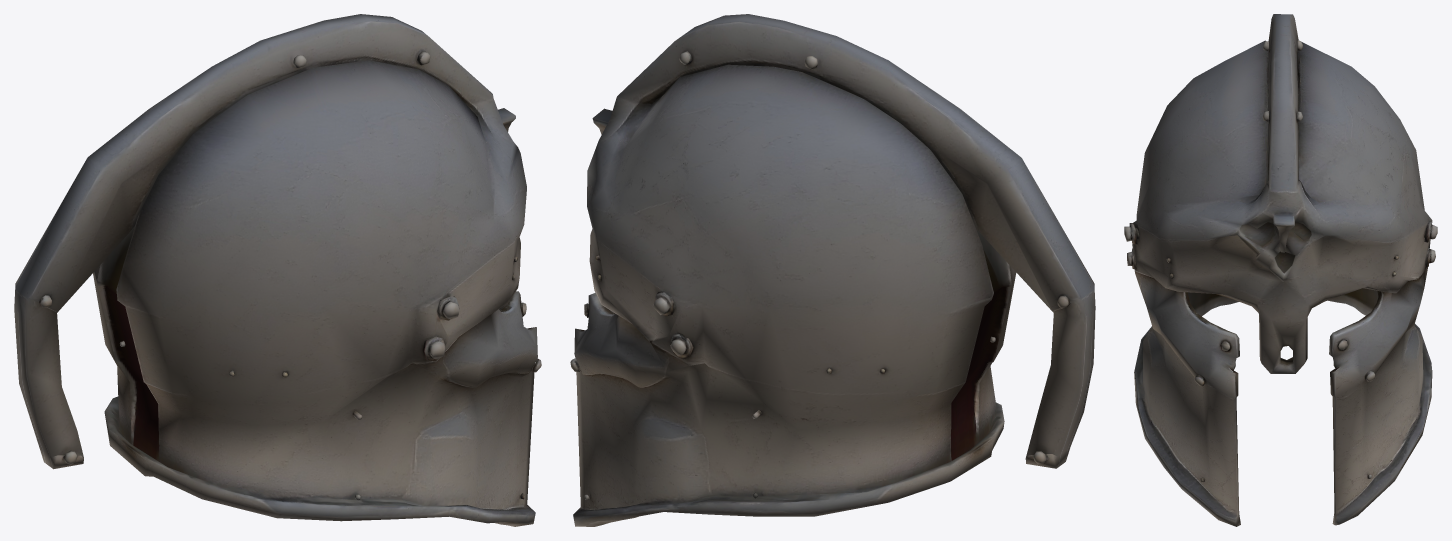
Rendered from yelmo.glb.
3 renders of one model, left to right at view 1: azimuth 30°, elevation 25°; view 2: azimuth 150°, elevation 25°; view 3: azimuth 270°, elevation 25°, orthographic. The views are drawn at different scales.
Parts seen in each view (by area): view 1: tripo_node_14965544-8d3c-4450-88a9-6775f9fea5e2; view 2: tripo_node_14965544-8d3c-4450-88a9-6775f9fea5e2; view 3: tripo_node_14965544-8d3c-4450-88a9-6775f9fea5e2.
Part boxes in pixels (left/top/right/bottom): tripo_node_14965544-8d3c-4450-88a9-6775f9fea5e2: left=14, top=14, right=541, bottom=526; tripo_node_14965544-8d3c-4450-88a9-6775f9fea5e2: left=570, top=14, right=1095, bottom=526; tripo_node_14965544-8d3c-4450-88a9-6775f9fea5e2: left=1124, top=14, right=1437, bottom=526.
Size of the model in its own units: 0.9902 by 0.998 by 0.6816.
Materials: 1 (1 with a texture image).
